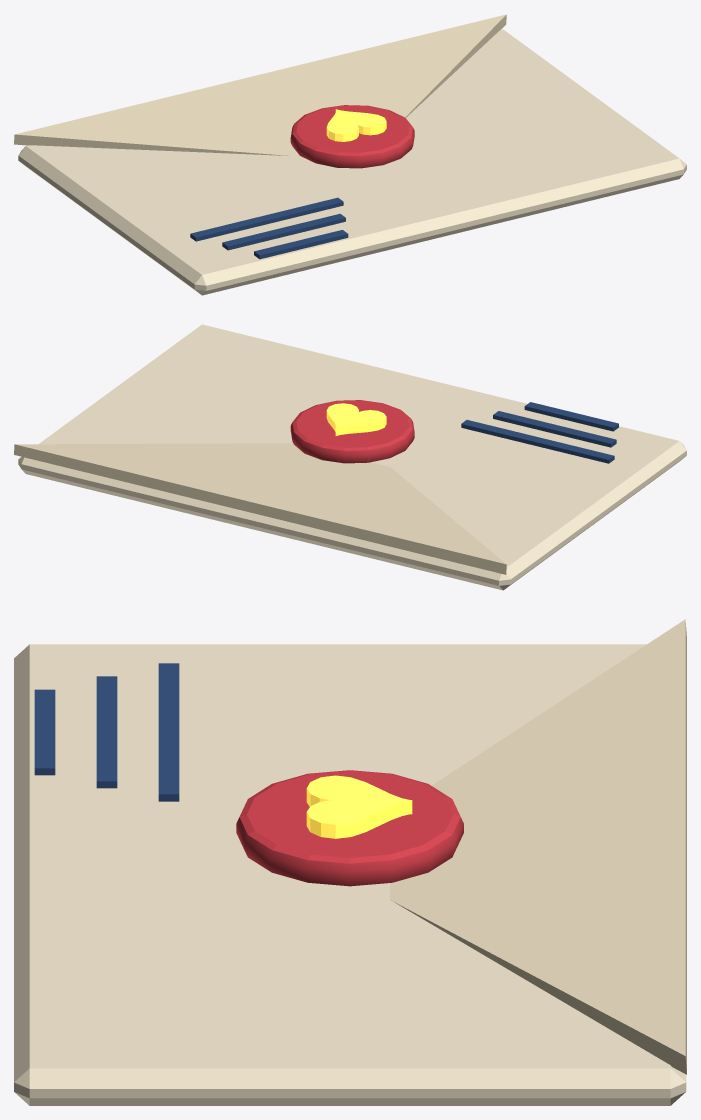
File: carta.glb
The picture shows the model from 3 angles, top to bottom: view 1: azimuth 30°, elevation 25°; view 2: azimuth 150°, elevation 25°; view 3: azimuth 270°, elevation 25°; orthographic projection. The views are drawn at different scales.
Visible parts, largest first — view 1: carta; view 2: carta; view 3: carta.
Boxes of the visible parts, bbox=[...] form: carta: bbox=[14, 14, 686, 295]; carta: bbox=[14, 324, 686, 590]; carta: bbox=[14, 619, 686, 1105].
Size of the model in its own units: 0.2 by 0.02 by 0.1301.
